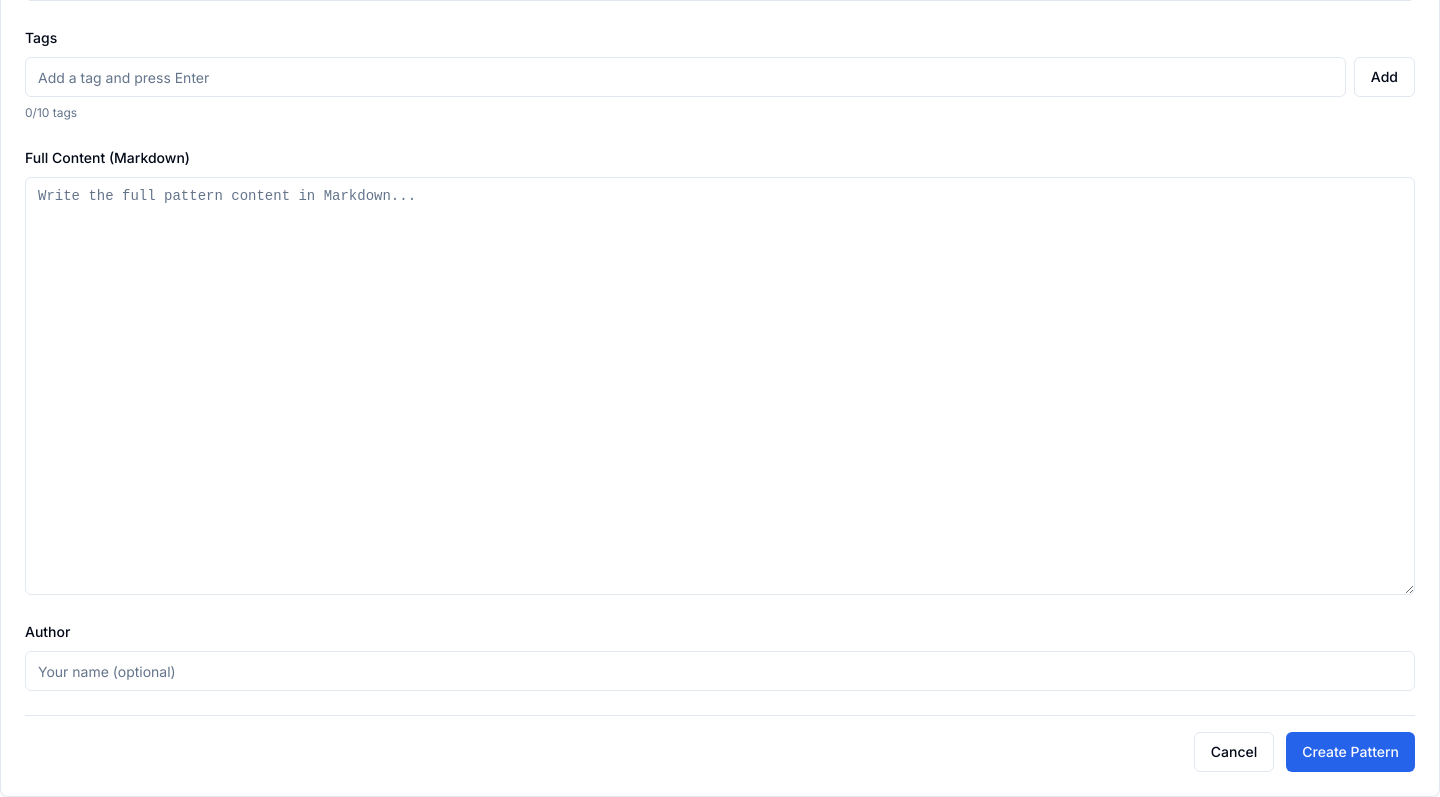
it: PatternForm — create mode › shows title validation error when submitting empty title
(page scrolled)
Click the button "Create Pattern".
click(1351, 752)  # box [1286,732,1415,772]
(page scrolled)
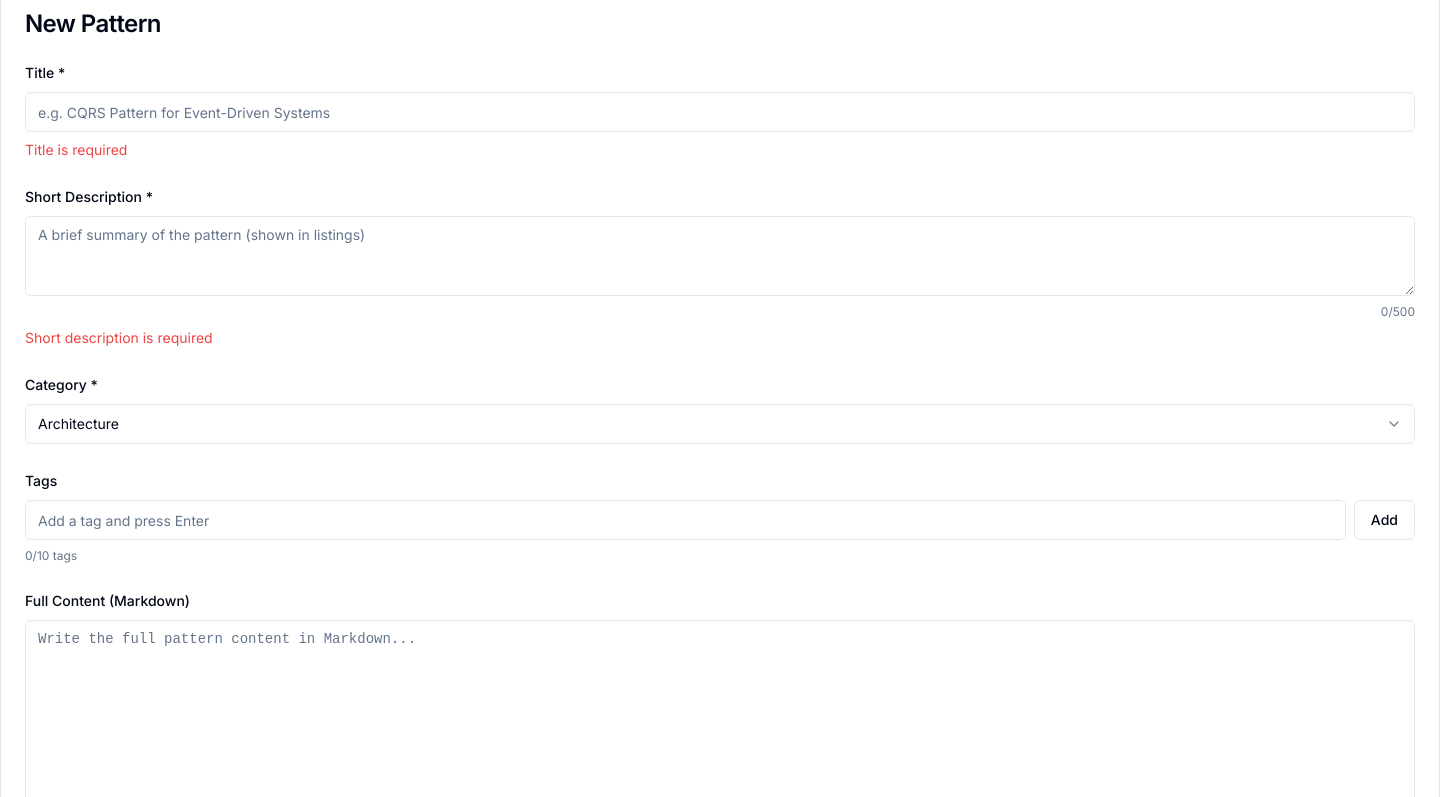
Check: the text "Title is required" is shown, box [25,141,127,158]
